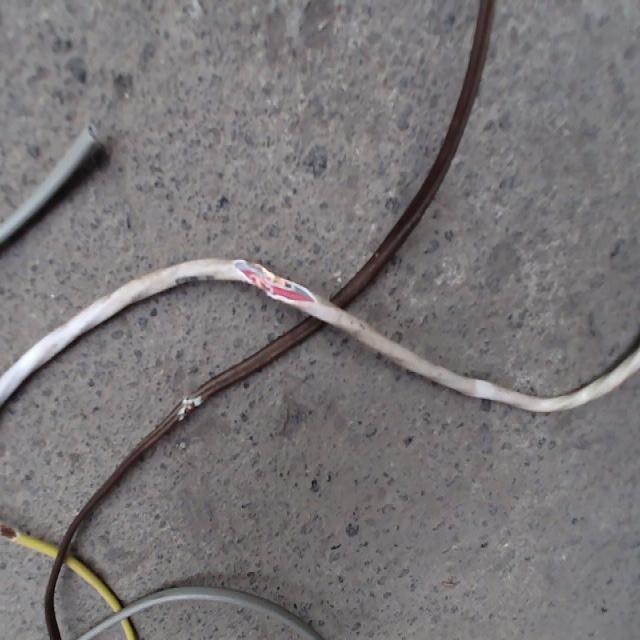-: (232, 256, 317, 307), (177, 392, 202, 417), (0, 521, 18, 540)
